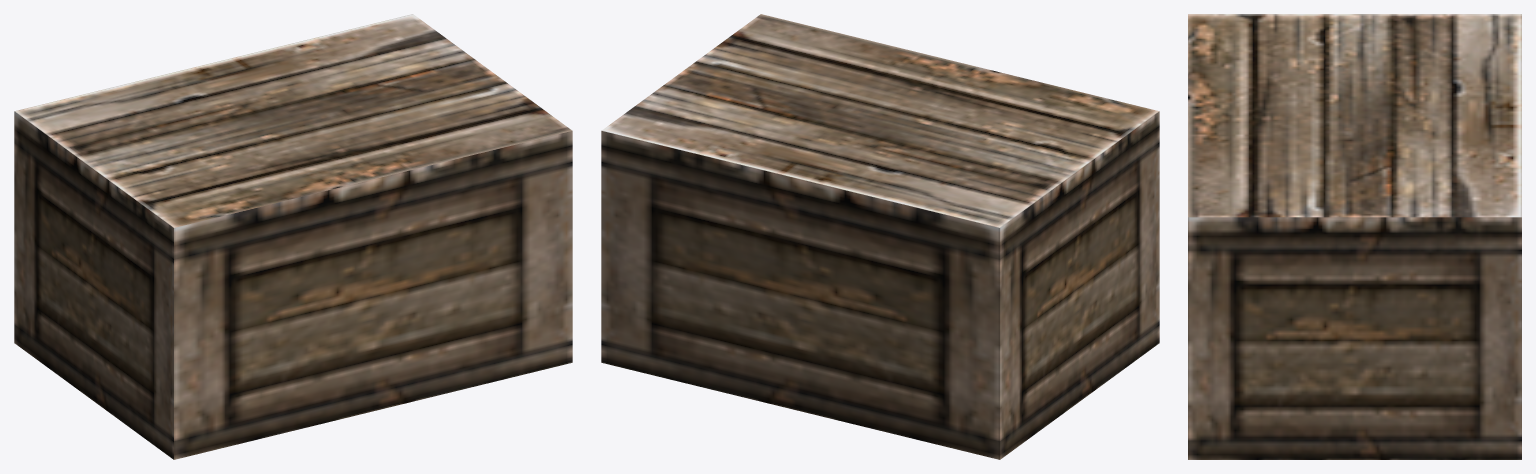
The model's file is GY_xiangzi006.fbx.
The picture shows the model from 3 angles, left to right: view 1: azimuth 30°, elevation 25°; view 2: azimuth 150°, elevation 25°; view 3: azimuth 270°, elevation 25°; orthographic projection. The views are drawn at different scales.
Parts seen in each view (by area): view 1: GY_xiangzi006; view 2: GY_xiangzi006; view 3: GY_xiangzi006.
Part boxes in pixels (x1,y1,x2,y2): GY_xiangzi006: (14, 14, 572, 459); GY_xiangzi006: (601, 14, 1159, 459); GY_xiangzi006: (1188, 14, 1521, 459).
Bounding box in the file's own units: 110 × 61.36 × 76.5.
